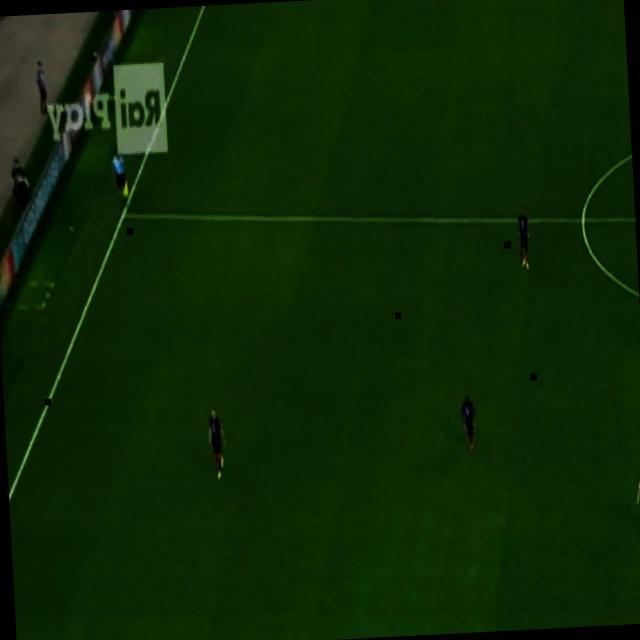player-white: (204, 406, 226, 482), (110, 143, 130, 206), (516, 202, 532, 273), (460, 392, 478, 452), (634, 468, 640, 542)
